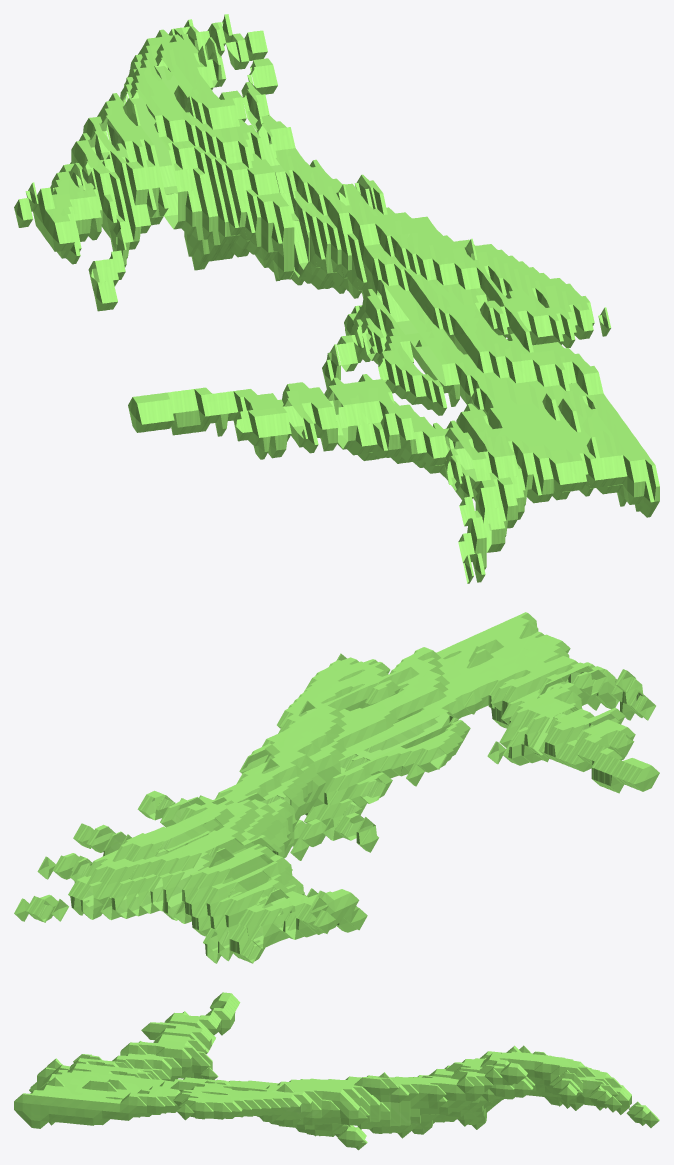
Rendered from SVV_BWM-VR07.gltf.
3 renders of one model, top to bottom at view 1: azimuth 30°, elevation 25°; view 2: azimuth 150°, elevation 25°; view 3: azimuth 270°, elevation 25°, orthographic. The views are drawn at different scales.
Parts seen in each view (by area): view 1: BWM-VR07; view 2: BWM-VR07; view 3: BWM-VR07.
Boxes of the visible parts, x1,y1,x2,y2 form: BWM-VR07: (14,14,659,583); BWM-VR07: (14,612,659,963); BWM-VR07: (14,992,659,1150).
Size of the model in its own units: 20985 by 7898 by 46998.
